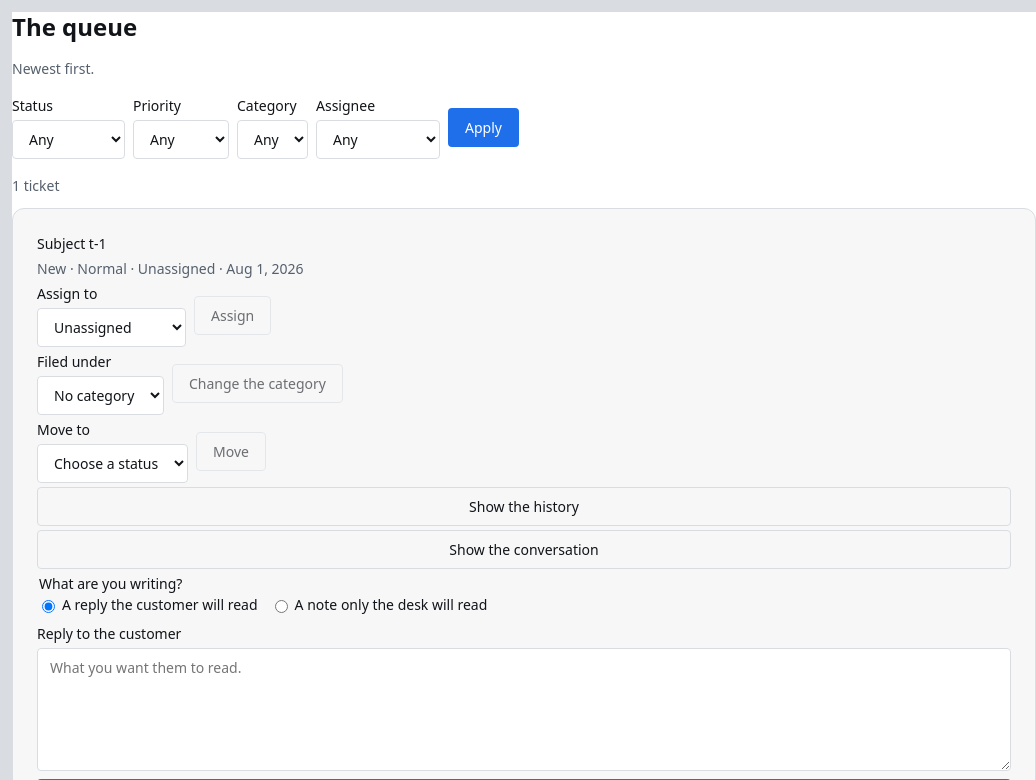
Test: a stale revision says the ticket changed and offers to look again
Expected: the text "Subject t-1" is shown, x1=37 y1=234 x2=106 y2=253
Select "Sofia Martinez" in the dropdown labelled "Assign to" at point(112, 328), box x1=37 y1=308 x2=186 y2=347
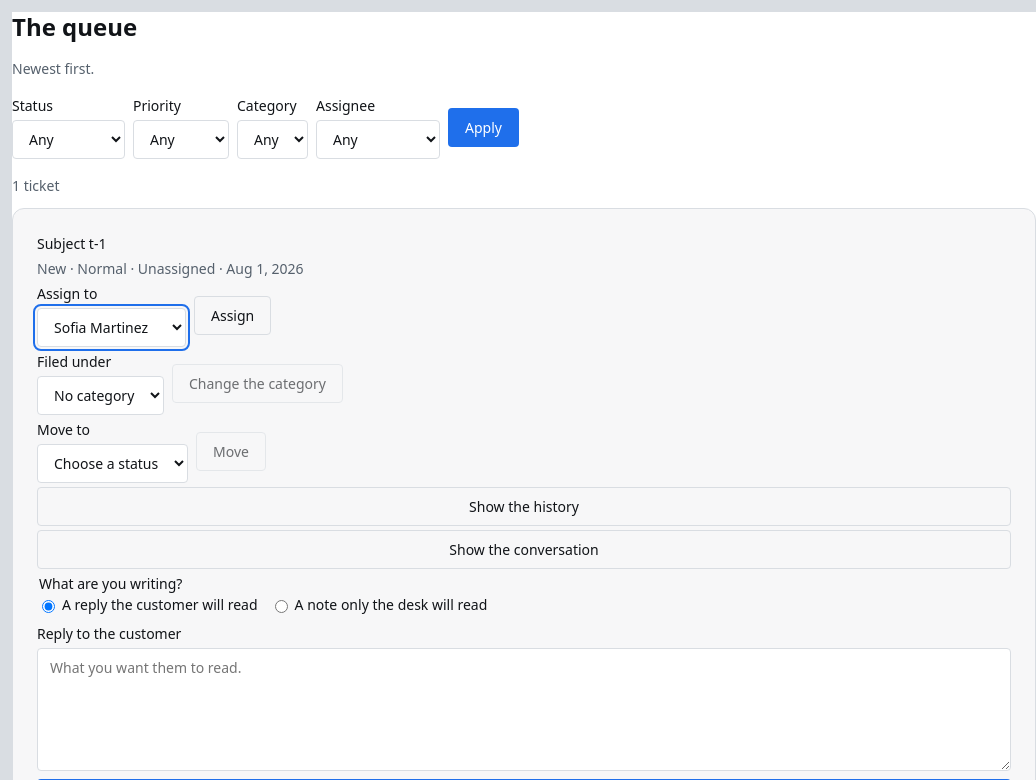
Click the button "Assign".
click(233, 315)  # box x1=194 y1=296 x2=271 y2=334
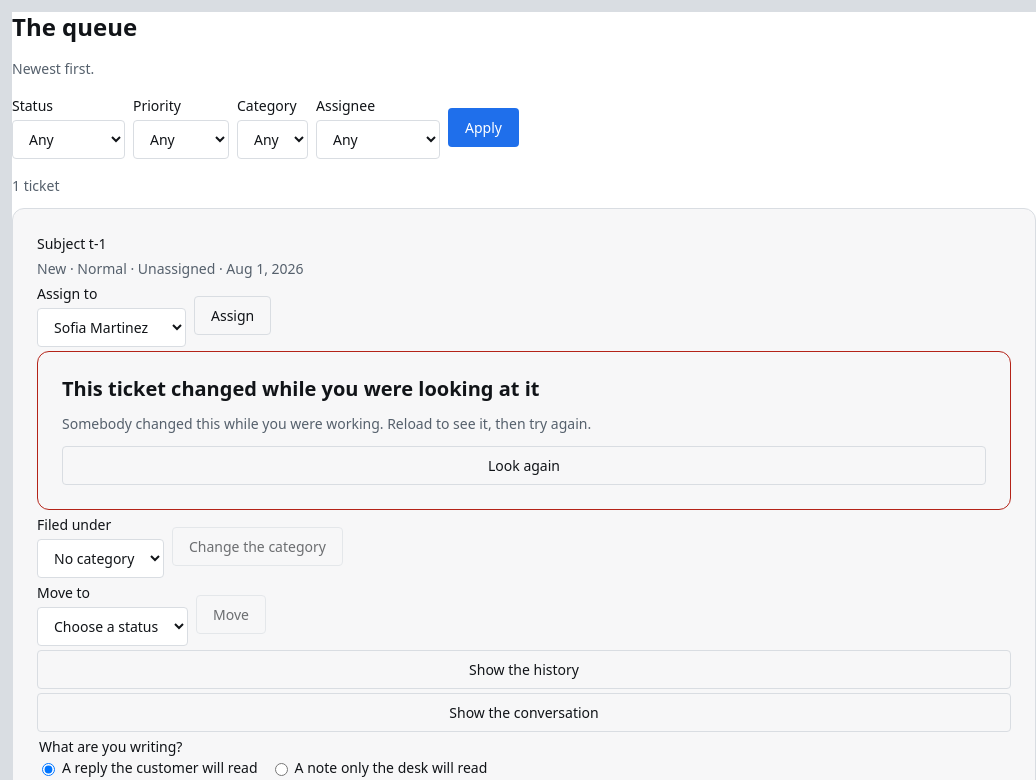
Now the heading "This ticket changed while you were looking at it" is shown, box x1=62 y1=375 x2=539 y2=402
Now the text "Somebody changed this while you were working. Reload to see it, then try again." is shown, box x1=62 y1=414 x2=591 y2=433
Now the button "Look again" is shown, box x1=62 y1=446 x2=986 y2=485
